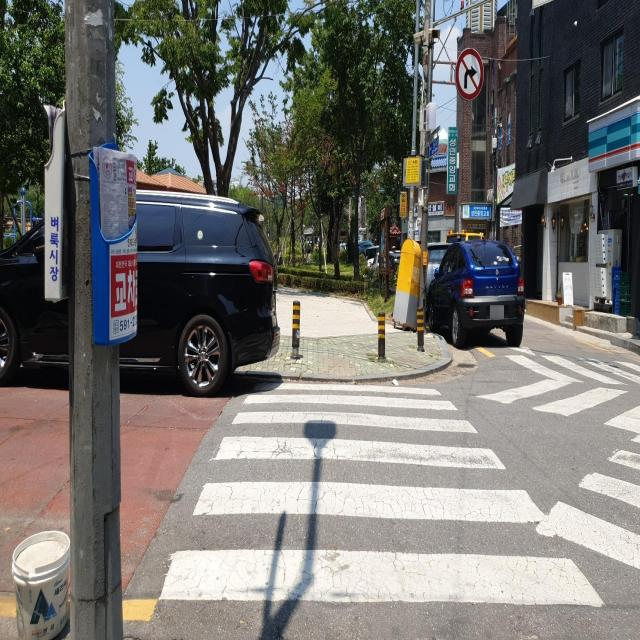횡단보도: (155, 378, 608, 612)
